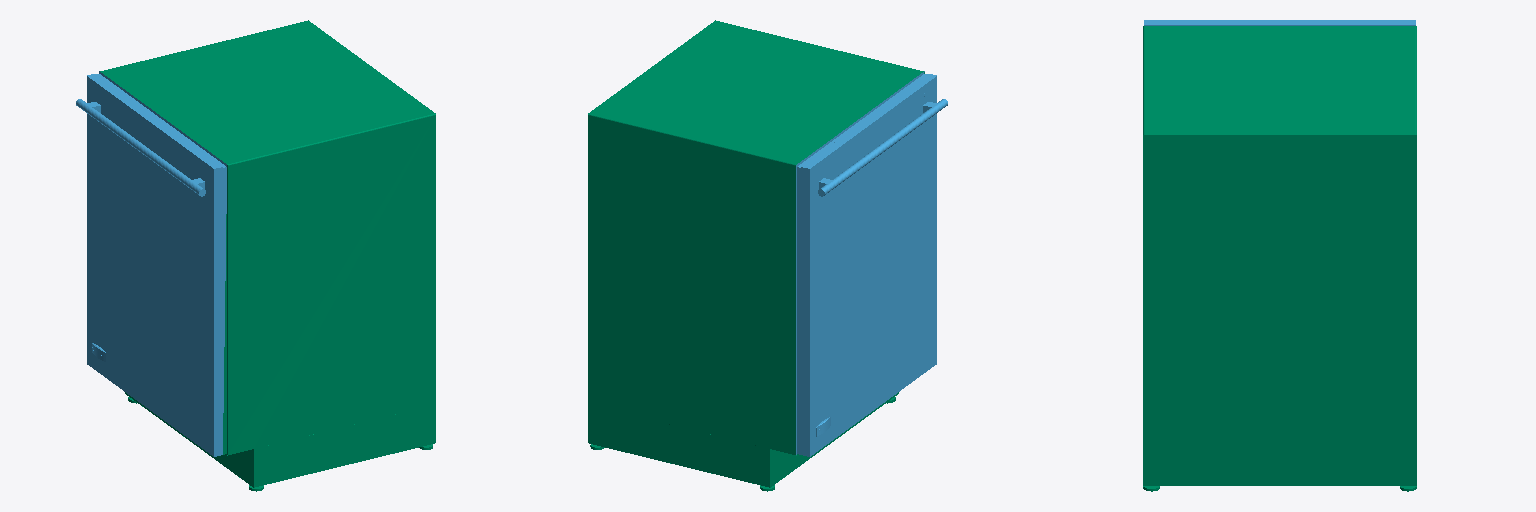
robot.urdf — partnet_5d17e90f512a3dc7df3a1b0d597ce76e:
<?xml version="1.0" ?>
<robot name="partnet_5d17e90f512a3dc7df3a1b0d597ce76e">
	<link name="base"/>
	<link name="link_0">
		<visual name="door_frame-17">
			<origin xyz="-0.5185999999999997 0.5001289000835025 -0.45018900780080173"/>
			<geometry>
				<mesh filename="textured_objs/new-1.obj"/>
			</geometry>
		</visual>
		<visual name="door_frame-17">
			<origin xyz="-0.5185999999999997 0.5001289000835025 -0.45018900780080173"/>
			<geometry>
				<mesh filename="textured_objs/original-8.obj"/>
			</geometry>
		</visual>
		<visual name="door_frame-17">
			<origin xyz="-0.5185999999999997 0.5001289000835025 -0.45018900780080173"/>
			<geometry>
				<mesh filename="textured_objs/original-4.obj"/>
			</geometry>
		</visual>
		<visual name="door_frame-17">
			<origin xyz="-0.5185999999999997 0.5001289000835025 -0.45018900780080173"/>
			<geometry>
				<mesh filename="textured_objs/original-2.obj"/>
			</geometry>
		</visual>
		<visual name="handle-18">
			<origin xyz="-0.5185999999999997 0.5001289000835025 -0.45018900780080173"/>
			<geometry>
				<mesh filename="textured_objs/original-5.obj"/>
			</geometry>
		</visual>
		<collision>
			<origin xyz="-0.5185999999999997 0.5001289000835025 -0.45018900780080173"/>
			<geometry>
				<mesh filename="textured_objs/new-1.obj"/>
			</geometry>
		</collision>
		<collision>
			<origin xyz="-0.5185999999999997 0.5001289000835025 -0.45018900780080173"/>
			<geometry>
				<mesh filename="textured_objs/original-8.obj"/>
			</geometry>
		</collision>
		<collision>
			<origin xyz="-0.5185999999999997 0.5001289000835025 -0.45018900780080173"/>
			<geometry>
				<mesh filename="textured_objs/original-4.obj"/>
			</geometry>
		</collision>
		<collision>
			<origin xyz="-0.5185999999999997 0.5001289000835025 -0.45018900780080173"/>
			<geometry>
				<mesh filename="textured_objs/original-2.obj"/>
			</geometry>
		</collision>
		<collision>
			<origin xyz="-0.5185999999999997 0.5001289000835025 -0.45018900780080173"/>
			<geometry>
				<mesh filename="textured_objs/original-5.obj"/>
			</geometry>
		</collision>
	</link>
	<joint name="joint_0" type="revolute">
		<origin xyz="0.5185999999999997 -0.5001289000835025 0.45018900780080173"/>
		<axis xyz="1 0 0"/>
		<child link="link_0"/>
		<parent link="link_1"/>
		<limit lower="0.0" upper="1.5707963267948966"/>
	</joint>
	<link name="link_1">
		<visual name="frame-13">
			<origin xyz="0 0 0"/>
			<geometry>
				<mesh filename="textured_objs/new-9.obj"/>
			</geometry>
		</visual>
		<visual name="foot-8">
			<origin xyz="0 0 0"/>
			<geometry>
				<mesh filename="textured_objs/new-4.obj"/>
			</geometry>
		</visual>
		<visual name="foot-9">
			<origin xyz="0 0 0"/>
			<geometry>
				<mesh filename="textured_objs/new-5.obj"/>
			</geometry>
		</visual>
		<visual name="foot-10">
			<origin xyz="0 0 0"/>
			<geometry>
				<mesh filename="textured_objs/new-3.obj"/>
			</geometry>
		</visual>
		<visual name="foot-11">
			<origin xyz="0 0 0"/>
			<geometry>
				<mesh filename="textured_objs/new-6.obj"/>
			</geometry>
		</visual>
		<visual name="surface-12">
			<origin xyz="0 0 0"/>
			<geometry>
				<mesh filename="textured_objs/new-0.obj"/>
			</geometry>
		</visual>
		<visual name="surface-12">
			<origin xyz="0 0 0"/>
			<geometry>
				<mesh filename="textured_objs/new-8.obj"/>
			</geometry>
		</visual>
		<visual name="surface-12">
			<origin xyz="0 0 0"/>
			<geometry>
				<mesh filename="textured_objs/new-7.obj"/>
			</geometry>
		</visual>
		<collision>
			<origin xyz="0 0 0"/>
			<geometry>
				<mesh filename="textured_objs/new-9.obj"/>
			</geometry>
		</collision>
		<collision>
			<origin xyz="0 0 0"/>
			<geometry>
				<mesh filename="textured_objs/new-4.obj"/>
			</geometry>
		</collision>
		<collision>
			<origin xyz="0 0 0"/>
			<geometry>
				<mesh filename="textured_objs/new-5.obj"/>
			</geometry>
		</collision>
		<collision>
			<origin xyz="0 0 0"/>
			<geometry>
				<mesh filename="textured_objs/new-3.obj"/>
			</geometry>
		</collision>
		<collision>
			<origin xyz="0 0 0"/>
			<geometry>
				<mesh filename="textured_objs/new-6.obj"/>
			</geometry>
		</collision>
		<collision>
			<origin xyz="0 0 0"/>
			<geometry>
				<mesh filename="textured_objs/new-0.obj"/>
			</geometry>
		</collision>
		<collision>
			<origin xyz="0 0 0"/>
			<geometry>
				<mesh filename="textured_objs/new-8.obj"/>
			</geometry>
		</collision>
		<collision>
			<origin xyz="0 0 0"/>
			<geometry>
				<mesh filename="textured_objs/new-7.obj"/>
			</geometry>
		</collision>
	</link>
	<joint name="joint_1" type="fixed">
		<origin rpy="1.570796326794897 0 -1.570796326794897" xyz="0 0 0"/>
		<child link="link_1"/>
		<parent link="base"/>
	</joint>
</robot>

--- Render facts (derived) ---
3 views of the same robot in one strip: view 1: azimuth 30°, elevation 25°; view 2: azimuth 150°, elevation 25°; view 3: azimuth 270°, elevation 25° (orthographic).
Robot: partnet_5d17e90f512a3dc7df3a1b0d597ce76e — 3 links, 2 joints (1 revolute, 1 fixed); root link base; default pose: every joint at zero.
Links seen in each view (by area): view 1: link_1, link_0; view 2: link_1, link_0; view 3: link_1, link_0.
Link boxes in pixels (x1,y1,x2,y2): link_1: (100,20,435,491); link_0: (76,71,226,456); link_1: (588,20,924,491); link_0: (796,71,947,456); link_1: (1143,26,1416,491); link_0: (1144,20,1415,25).
Bounding box of the posed robot: 1.1 × 1.04 × 1.49 m (x, y, z).
13 mesh visuals loaded from 13 distinct referenced files (13 OBJ).
